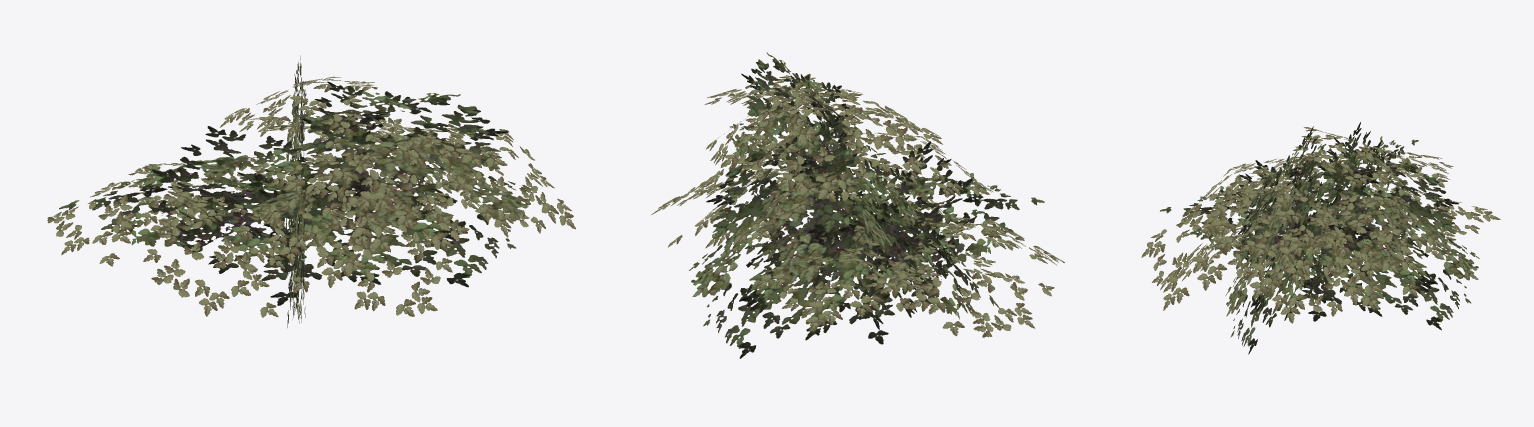
File: decd_saplingclump_sm_l1.fbx
3 views of the same model, side by side, from view 1: azimuth 30°, elevation 25°; view 2: azimuth 150°, elevation 25°; view 3: azimuth 270°, elevation 25° (orthographic). The views are drawn at different scales.
Visible parts, largest first — view 1: mesh_node; view 2: mesh_node; view 3: mesh_node.
Boxes of the visible parts, x1,y1,x2,y2 form: mesh_node: [47, 55, 575, 327]; mesh_node: [651, 52, 1064, 358]; mesh_node: [1141, 122, 1500, 354].
Bounding box in the file's own units: 3.59 × 2.28 × 3.26.
